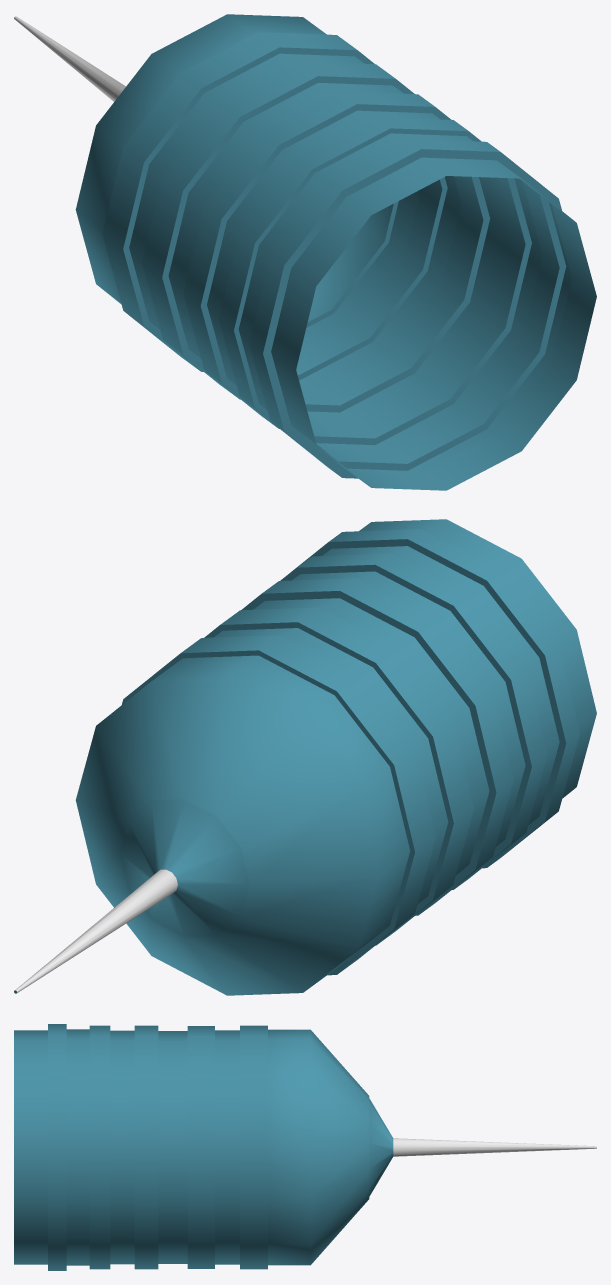
3 views of the same model, one above another, from view 1: azimuth 30°, elevation 25°; view 2: azimuth 150°, elevation 25°; view 3: azimuth 270°, elevation 25° (orthographic). The views are drawn at different scales.
Parts seen in each view (by area): view 1: Circle; view 2: Circle; view 3: Circle.
Part boxes in pixels (<box>): Circle: <box>14,14,596,490</box>; Circle: <box>14,519,596,995</box>; Circle: <box>14,1024,596,1270</box>.
Bounding box in the file's own units: 3.69 × 3.69 × 8.68.
